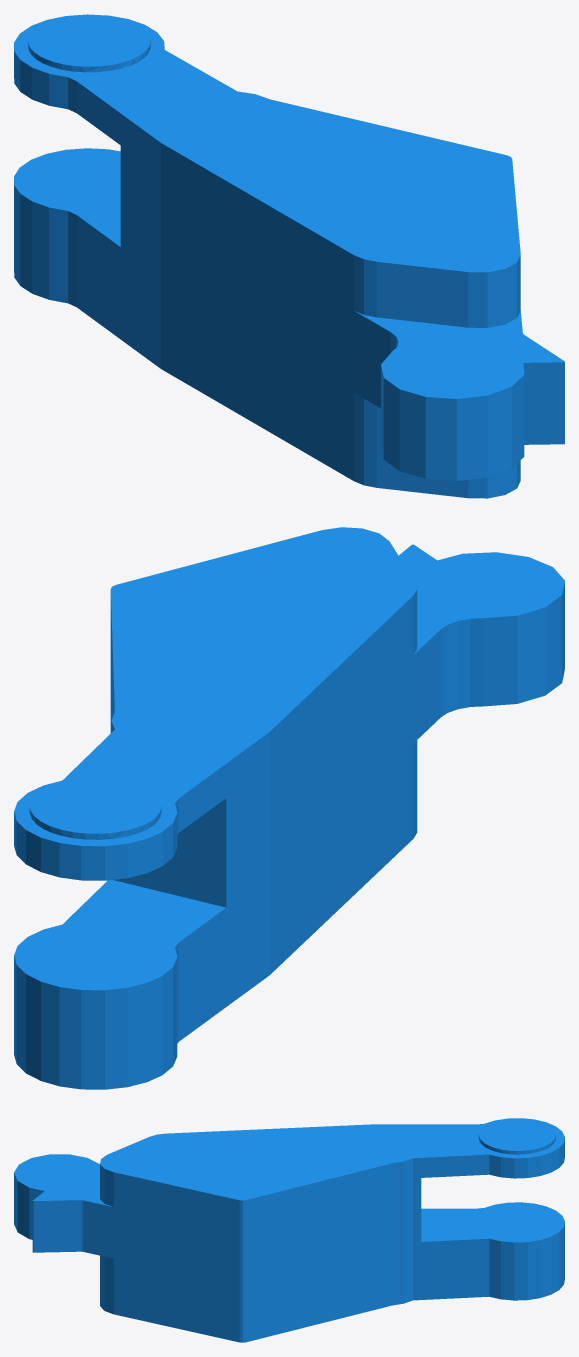
File: RLEG_LINK3_mesh.dae
3 renders of one model, top to bottom at view 1: azimuth 30°, elevation 25°; view 2: azimuth 150°, elevation 25°; view 3: azimuth 270°, elevation 25°, orthographic. The views are drawn at different scales.
Parts seen in each view (by area): view 1: RLEG_LINK3; view 2: RLEG_LINK3; view 3: RLEG_LINK3.
Part boxes in pixels (x1,y1,x2,y2): RLEG_LINK3: (14, 14, 564, 498); RLEG_LINK3: (14, 527, 564, 1089); RLEG_LINK3: (14, 1118, 564, 1342).
Bounding box in the file's own units: 0.1491 × 0.123 × 0.4214.
